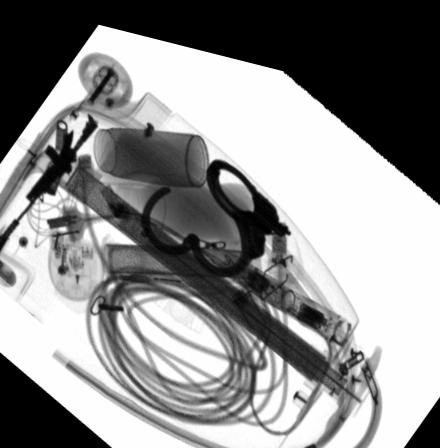Baton: (206, 231, 352, 331)
Bullet: (44, 129, 71, 190)
Gun: (0, 111, 100, 243)
HandCuffs: (140, 148, 292, 267)
